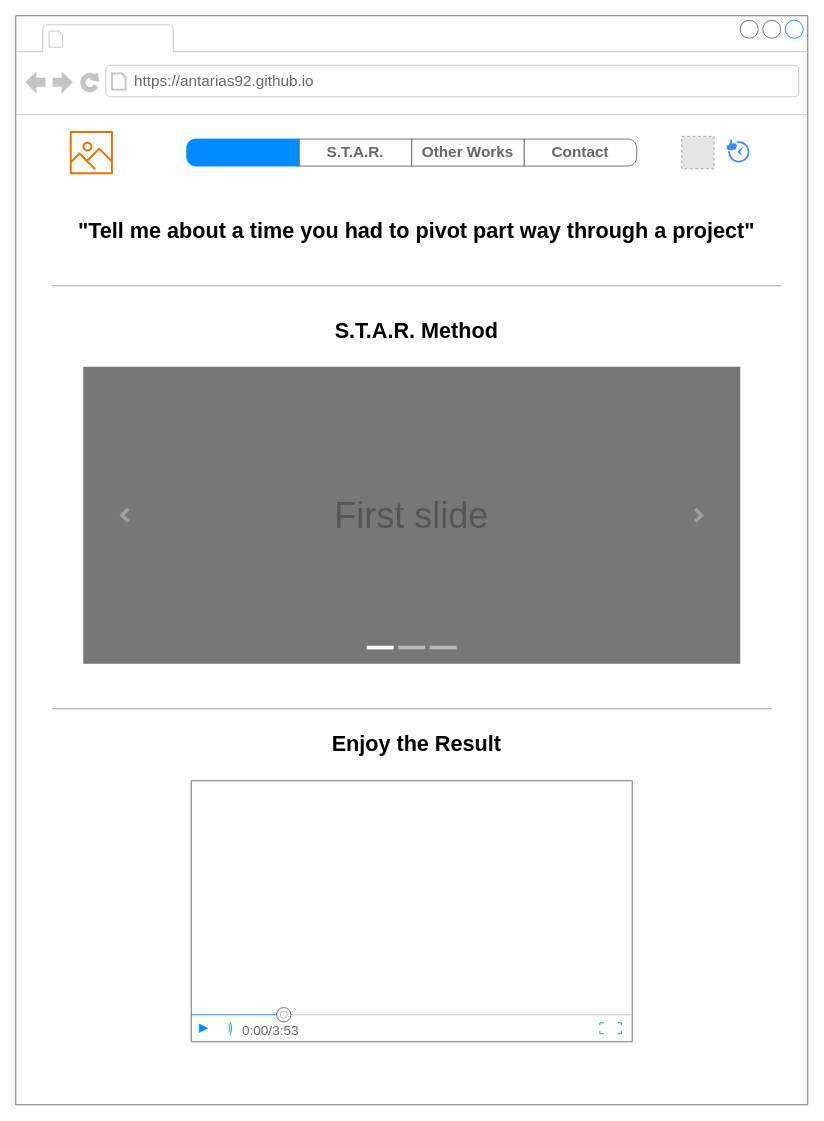
Image size: 824x1121. Some labels were removed from this diagram. Grey dashed boxes stand in for pictures. The box of each missing label's shape, as (x1, y1, x2, y2) in pixels:
Home: (186, 138, 299, 166)
S.T.A.R: (69, 26, 169, 50)
